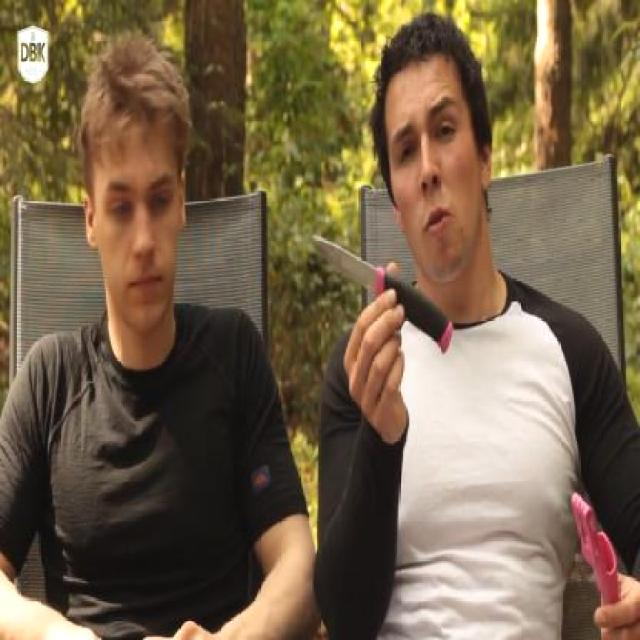knife: (300, 218, 458, 378)
